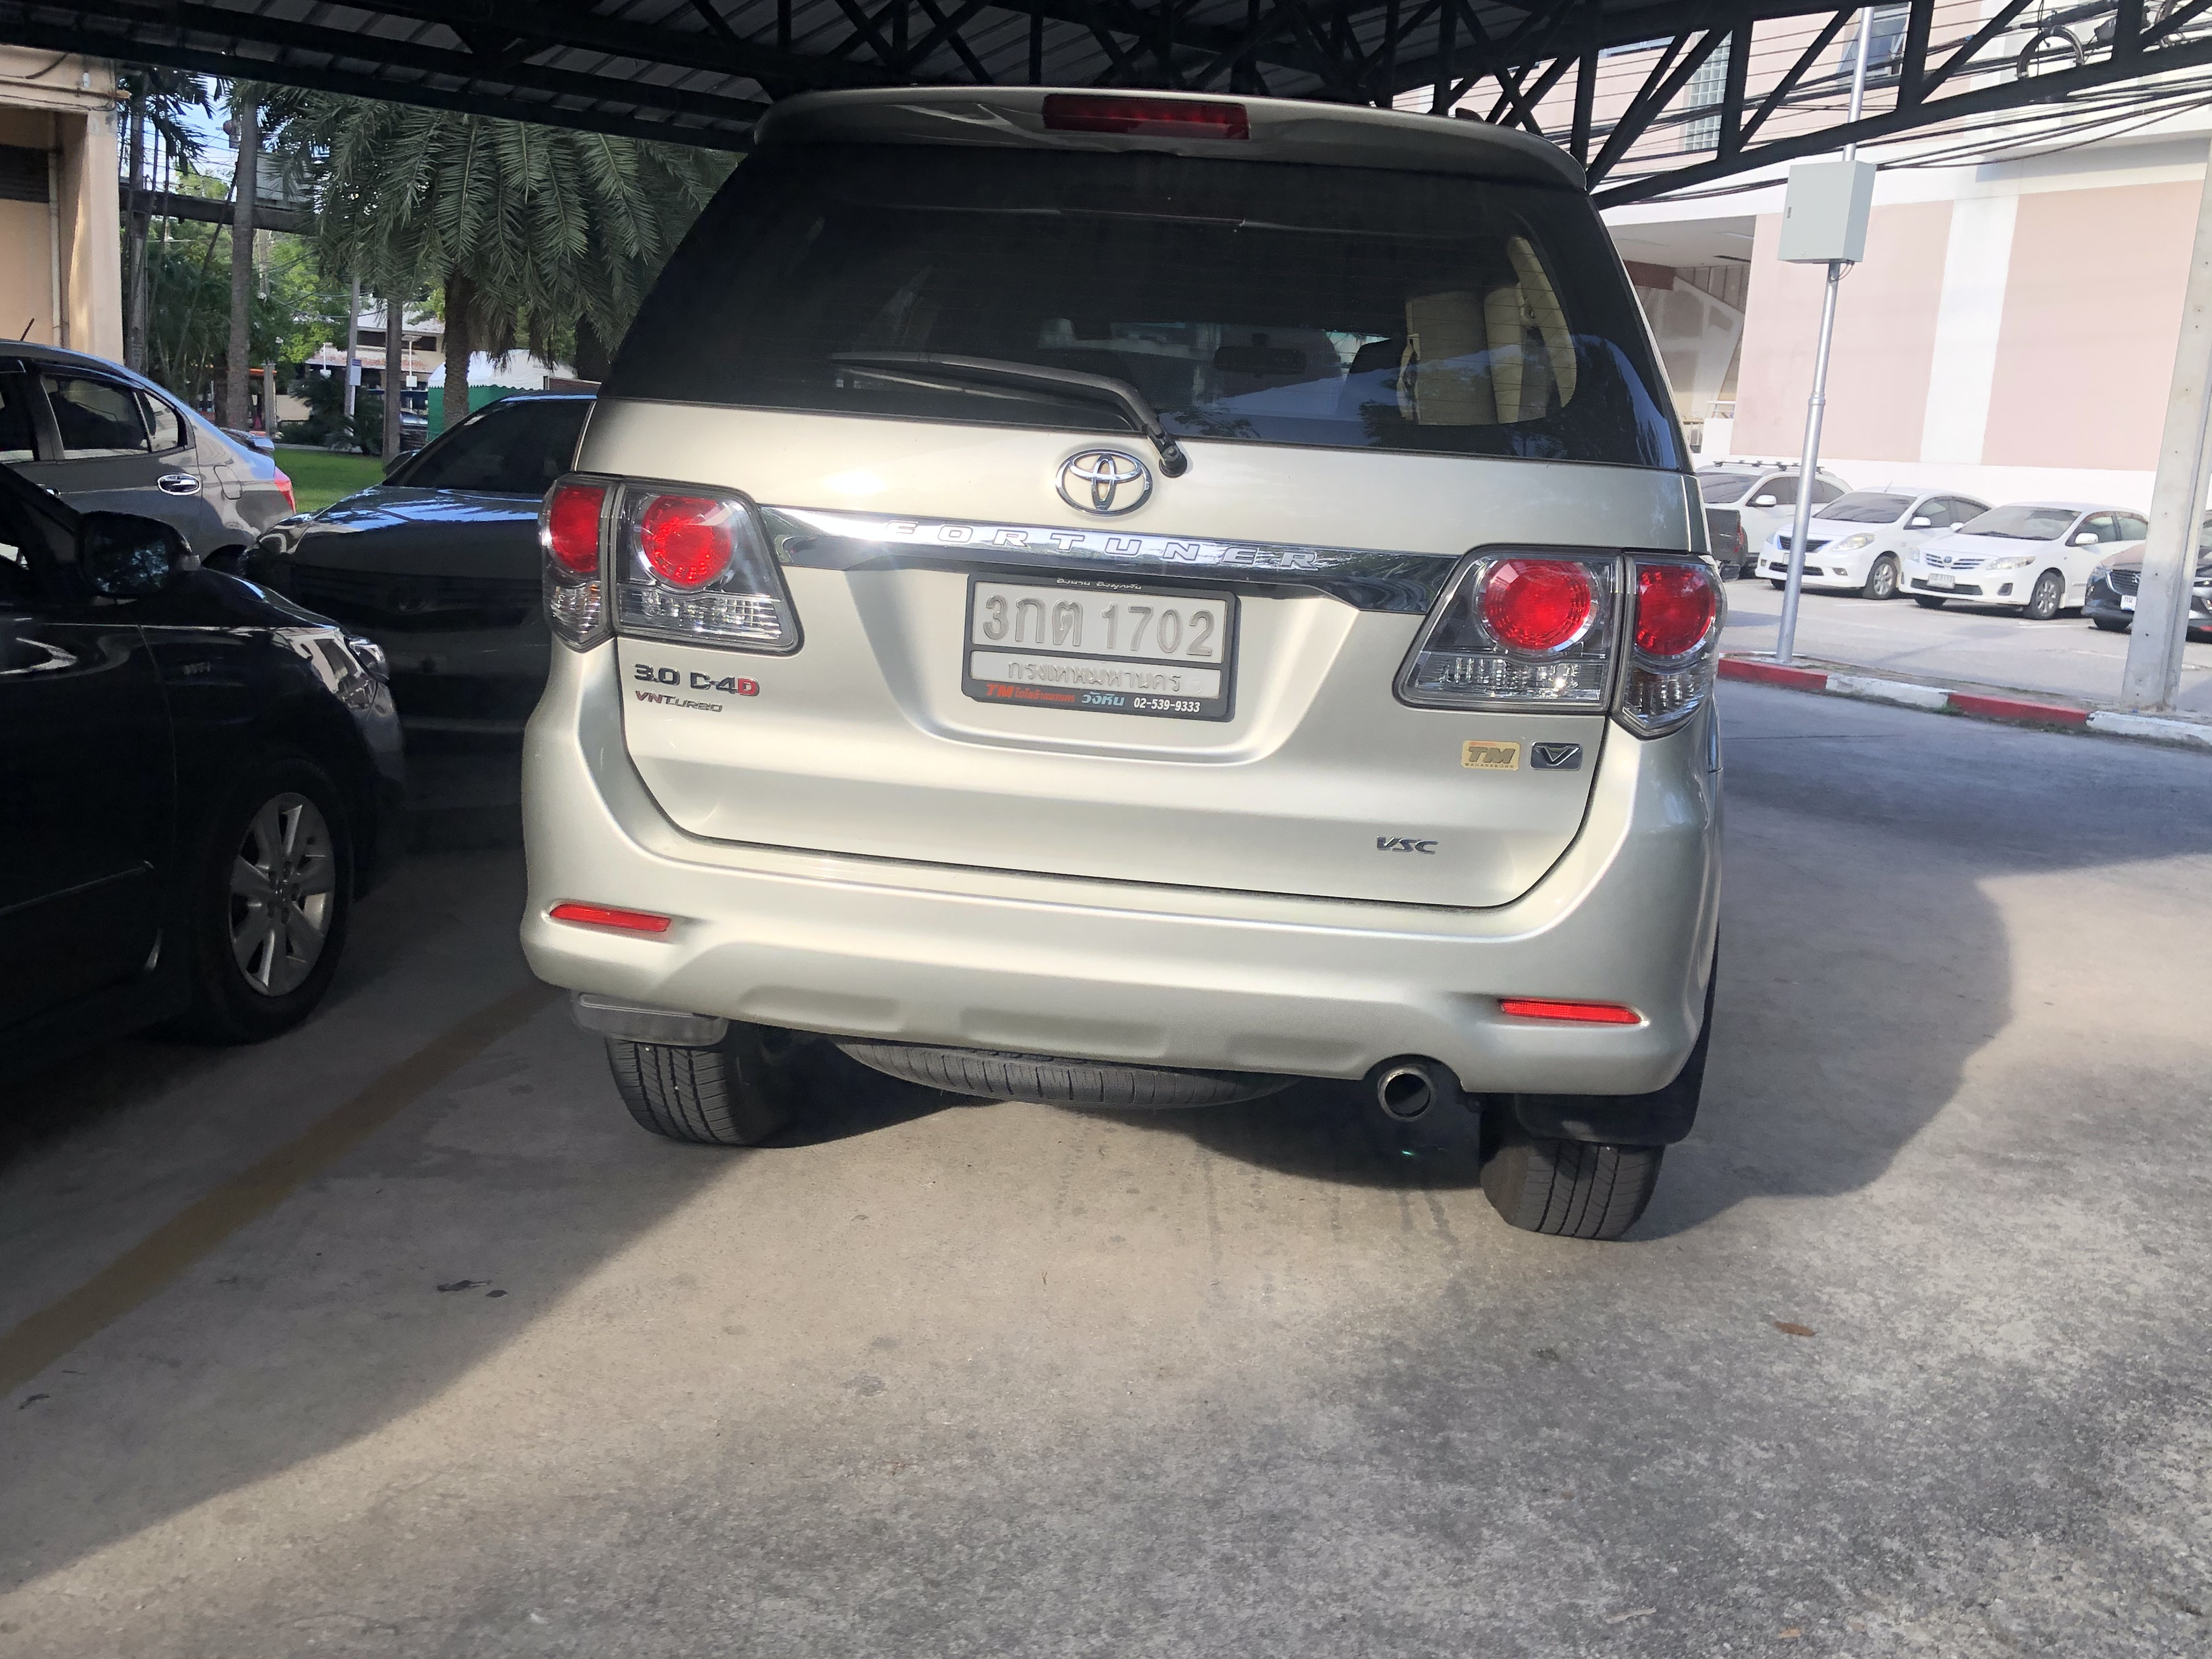in: (970, 584, 1224, 701)
out: (961, 570, 1238, 727)
